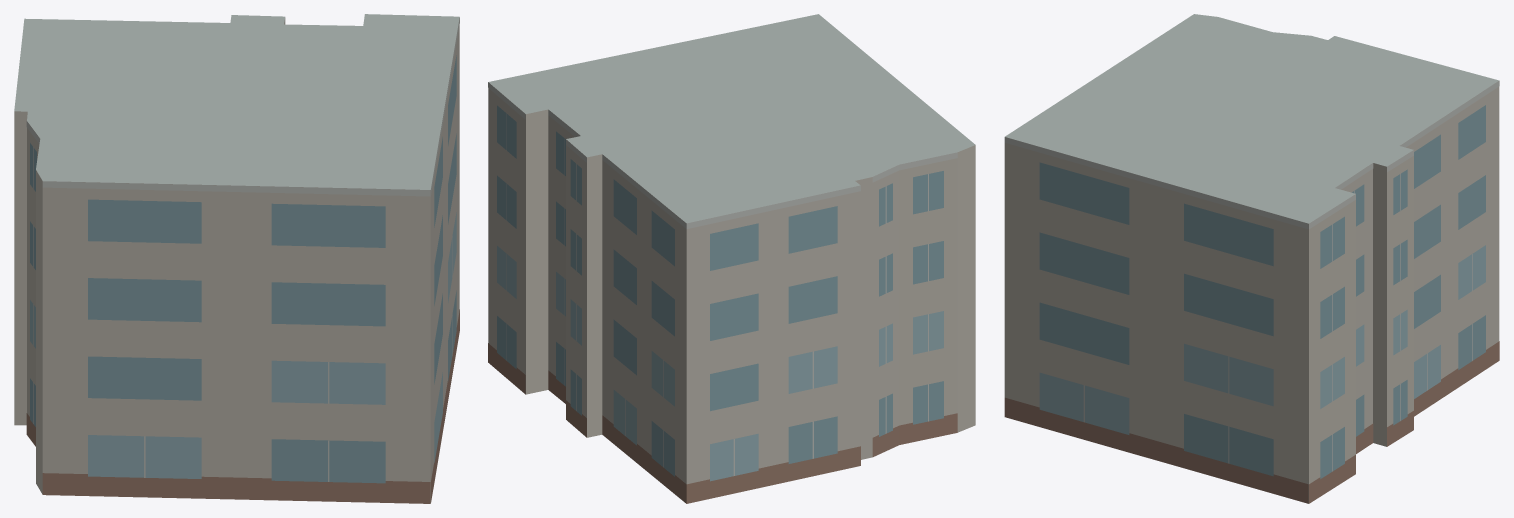
Rendered from survey-upis-32693132.glb.
3 views of the same model, side by side, from view 1: azimuth 30°, elevation 25°; view 2: azimuth 150°, elevation 25°; view 3: azimuth 270°, elevation 25° (orthographic). The views are drawn at different scales.
Parts seen in each view (by area): view 1: survey-upis-32693132.tmp; view 2: survey-upis-32693132.tmp; view 3: survey-upis-32693132.tmp.
Boxes of the visible parts, x1,y1,x2,y2 form: survey-upis-32693132.tmp: (14, 14, 459, 503); survey-upis-32693132.tmp: (488, 14, 975, 503); survey-upis-32693132.tmp: (1004, 14, 1499, 503).
Size of the model in its own units: 19.03 by 11.85 by 18.97.
